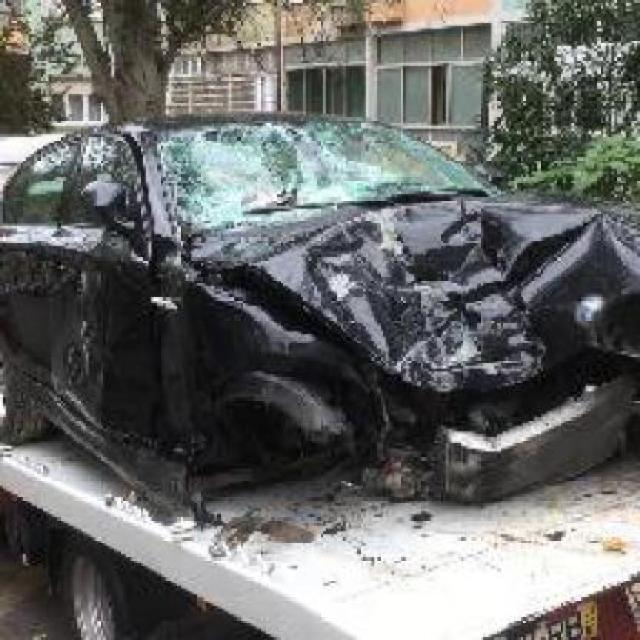damaged-front-bumper: (285, 351, 638, 484)
damaged-hood: (195, 201, 608, 337)
damaged-windscreen: (137, 120, 480, 208)
